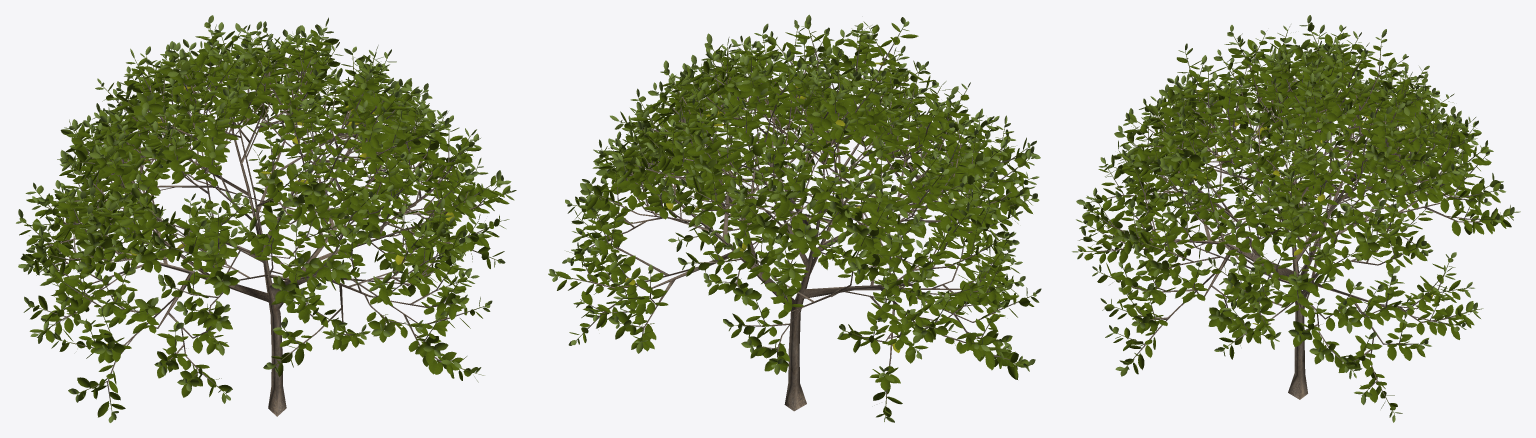
Rendered from Citrus x limon HD_Standard leaves only mat 25_LOD3.fbx.
3 views of the same model, side by side, from view 1: azimuth 30°, elevation 25°; view 2: azimuth 150°, elevation 25°; view 3: azimuth 270°, elevation 25° (orthographic). The views are drawn at different scales.
Parts seen in each view (by area): view 1: Citrus_x_limon_HD; view 2: Citrus_x_limon_HD; view 3: Citrus_x_limon_HD.
Boxes of the visible parts, x1,y1,x2,y2 form: Citrus_x_limon_HD: (16, 15, 516, 422); Citrus_x_limon_HD: (548, 14, 1041, 422); Citrus_x_limon_HD: (1072, 15, 1520, 422).
Bounding box in the file's own units: 2.98 × 2.31 × 2.79.
7 materials, 7 textured.
